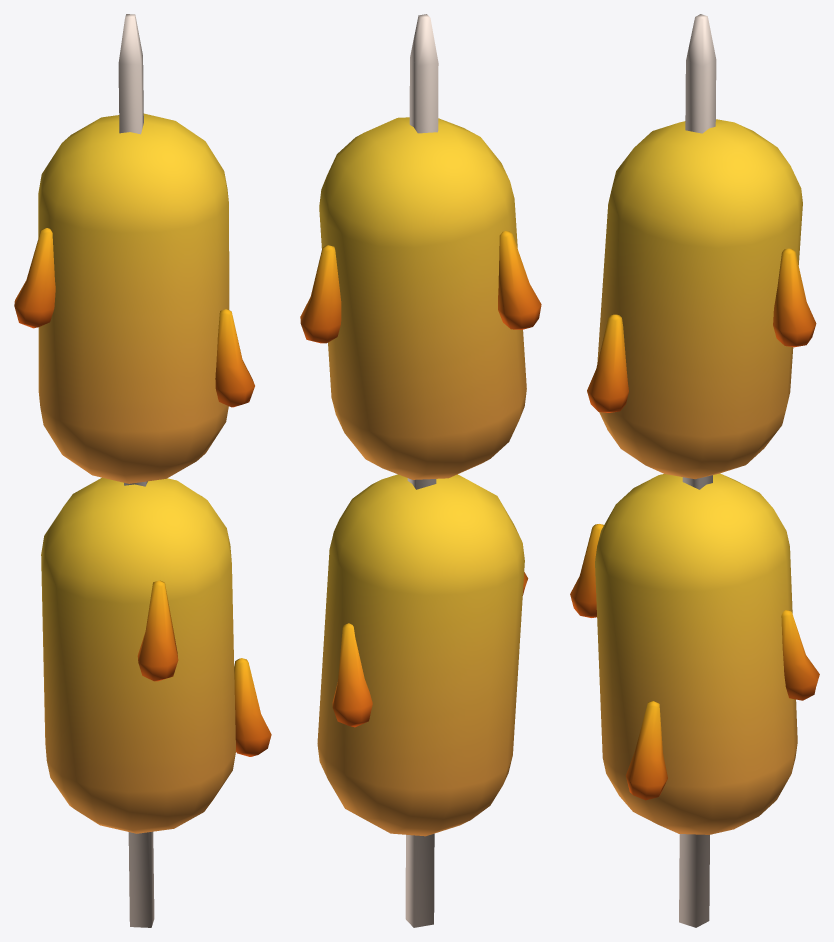
File: lpb_food_bananaque.fbx
The picture shows the model from 3 angles, left to right: view 1: azimuth 30°, elevation 25°; view 2: azimuth 150°, elevation 25°; view 3: azimuth 270°, elevation 25°; orthographic projection.
Visible parts, largest first — view 1: bananaque; view 2: bananaque; view 3: bananaque.
Part boxes in pixels (bbox=[...]): bananaque: bbox=[14, 14, 271, 927]; bananaque: bbox=[300, 14, 541, 927]; bananaque: bbox=[570, 14, 819, 927].
Bounding box in the file's own units: 14.4 × 55.58 × 13.97.
